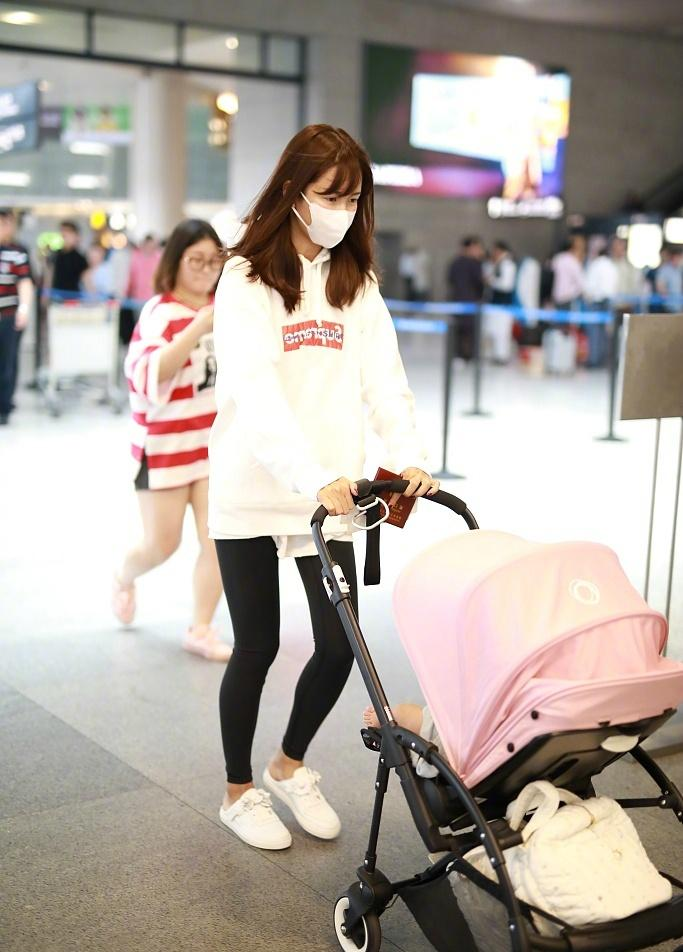face: (180, 238, 219, 293)
face_mask: (302, 167, 359, 248)
